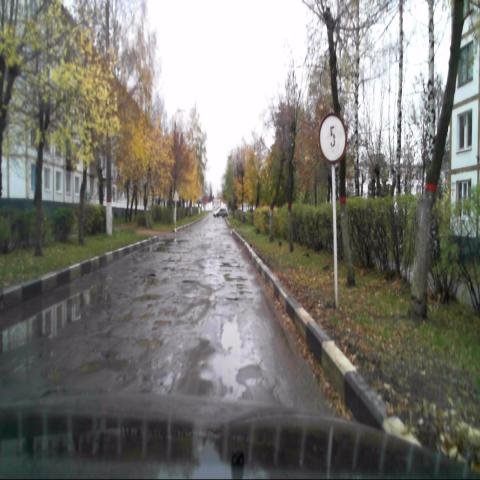3_24: (318, 116, 347, 164)
